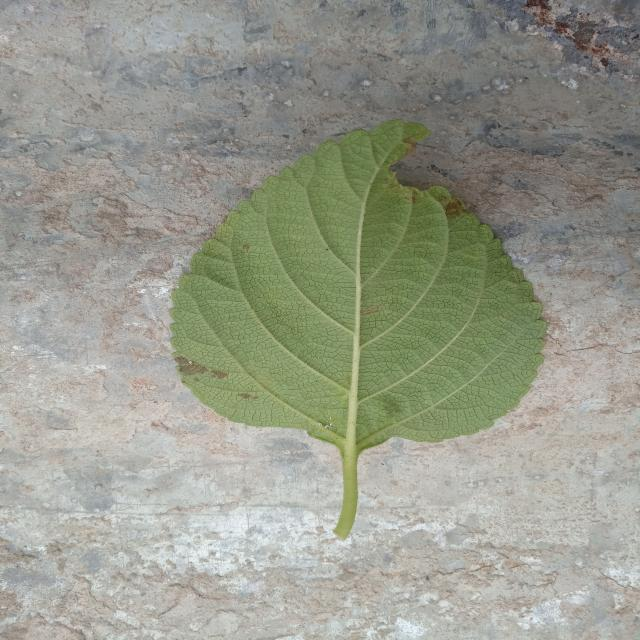Lantana: (170, 120, 547, 539)
